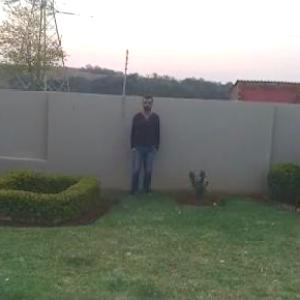follow: (130, 91, 163, 201)
